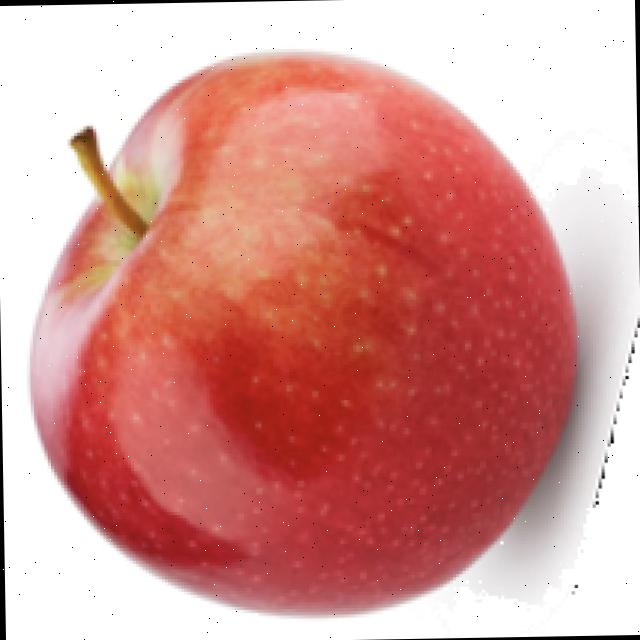apple: (23, 45, 637, 621)
